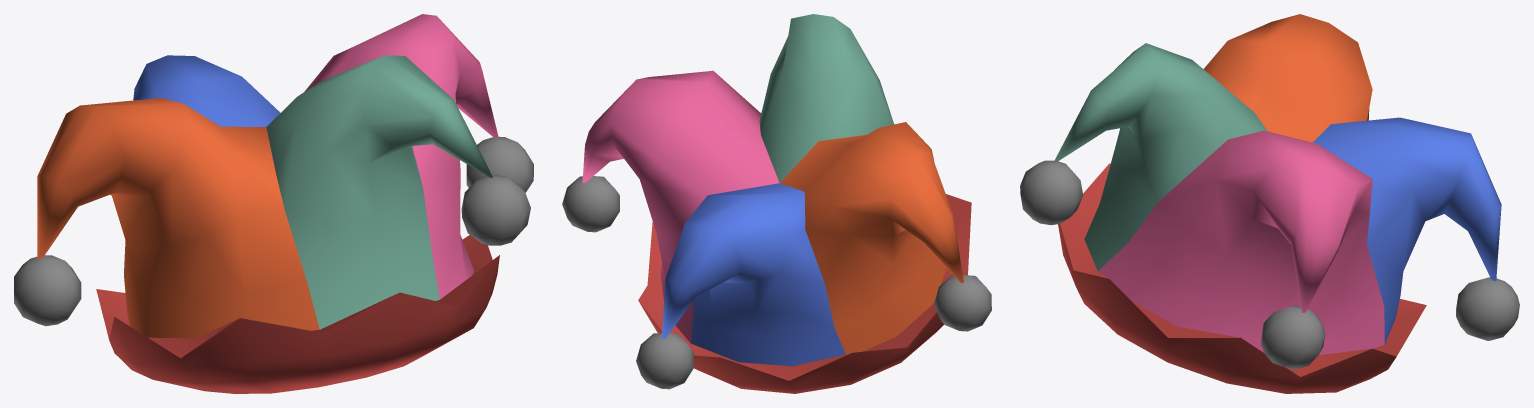
The model's file is hat_joker.fbx.
The picture shows the model from 3 angles, left to right: view 1: azimuth 30°, elevation 25°; view 2: azimuth 150°, elevation 25°; view 3: azimuth 270°, elevation 25°; orthographic projection. The views are drawn at different scales.
Visible parts, largest first — view 1: hat_joker; view 2: hat_joker; view 3: hat_joker.
Boxes of the visible parts, x1=… form: hat_joker: x1=14, y1=14, x2=533, y2=393; hat_joker: x1=562, y1=14, x2=991, y2=393; hat_joker: x1=1020, y1=14, x2=1519, y2=393.
Size of the model in its own units: 1.23 by 0.8289 by 1.15.
